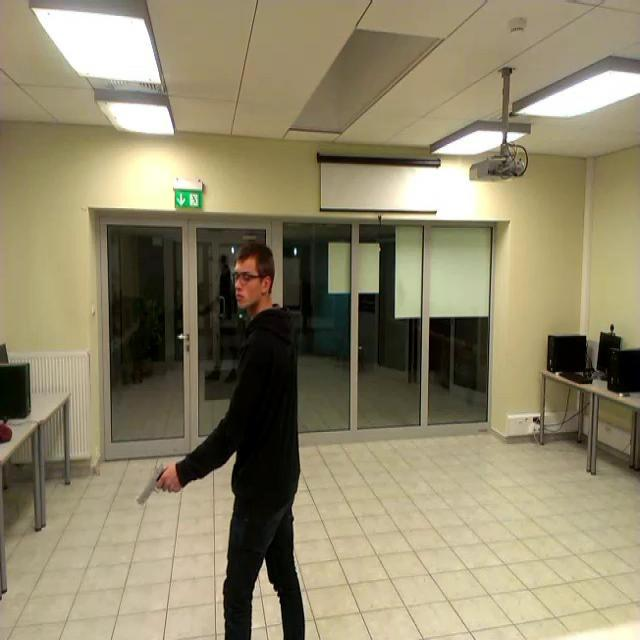weapon: (134, 465, 178, 503)
